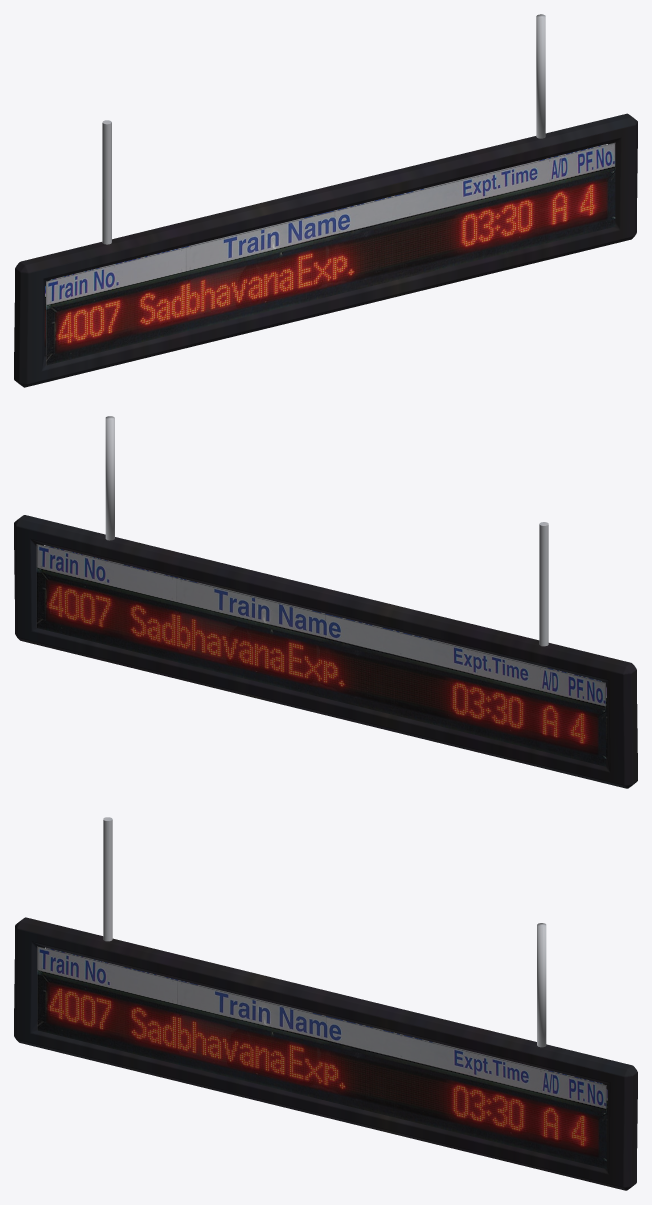
File: board.fbx
3 views of the same model, one above another, from view 1: azimuth 30°, elevation 25°; view 2: azimuth 150°, elevation 25°; view 3: azimuth 330°, elevation 25° (orthographic).
Visible parts, largest first — view 1: Sign board; view 2: Sign board; view 3: Sign board.
Boxes of the visible parts, left/top/right/bottom form: Sign board: left=14, top=14, right=637, bottom=387; Sign board: left=14, top=416, right=637, bottom=788; Sign board: left=14, top=817, right=637, bottom=1190.
Bounding box in the file's own units: 736 × 275 × 23.35.
